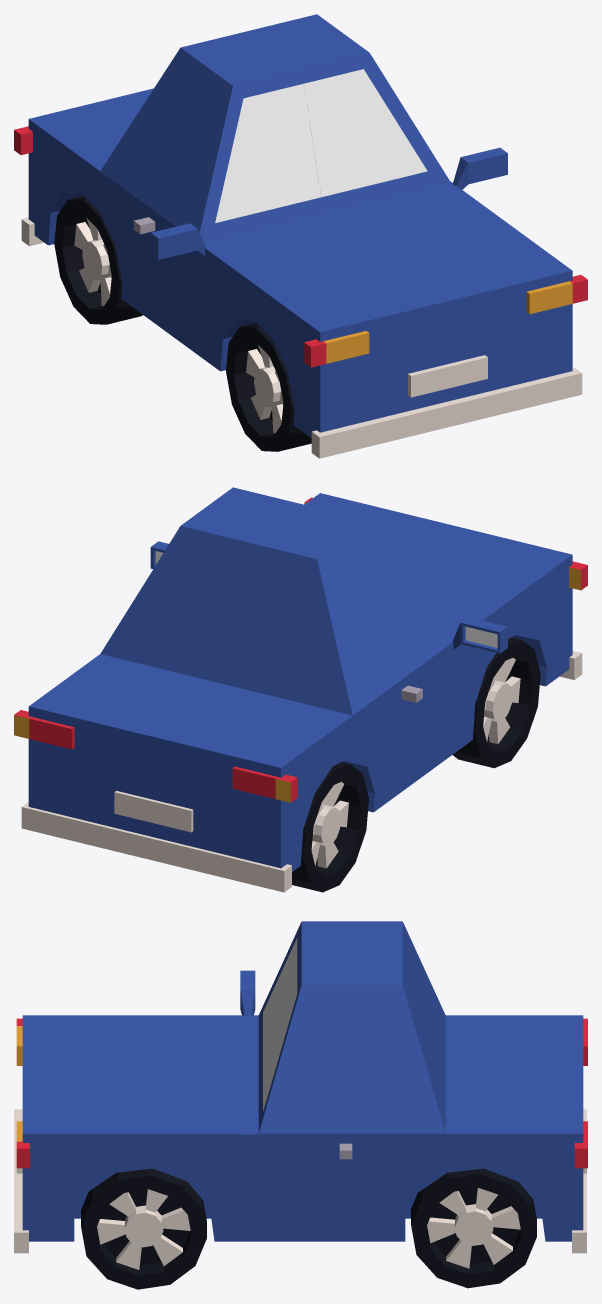
The model's file is carrito azul.fbx.
3 renders of one model, top to bottom at view 1: azimuth 30°, elevation 25°; view 2: azimuth 150°, elevation 25°; view 3: azimuth 270°, elevation 25°, orthographic. The views are drawn at different scales.
Visible parts, largest first — view 1: Cube.001; view 2: Cube.001; view 3: Cube.001.
Boxes of the visible parts, x1,y1,x2,y2 form: Cube.001: [14, 14, 587, 458]; Cube.001: [14, 487, 587, 892]; Cube.001: [14, 921, 587, 1289].
Bounding box in the file's own units: 277 × 219 × 409.
